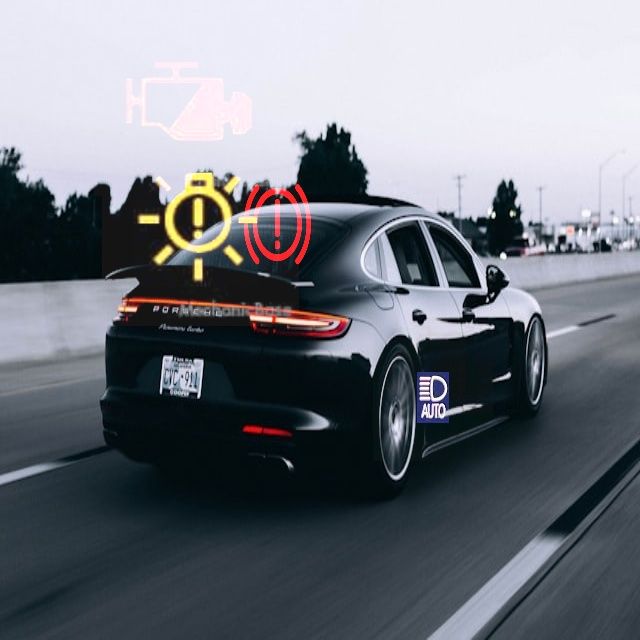symbol: (102, 129, 299, 326), (94, 9, 281, 196), (210, 154, 344, 288), (373, 341, 493, 461)
